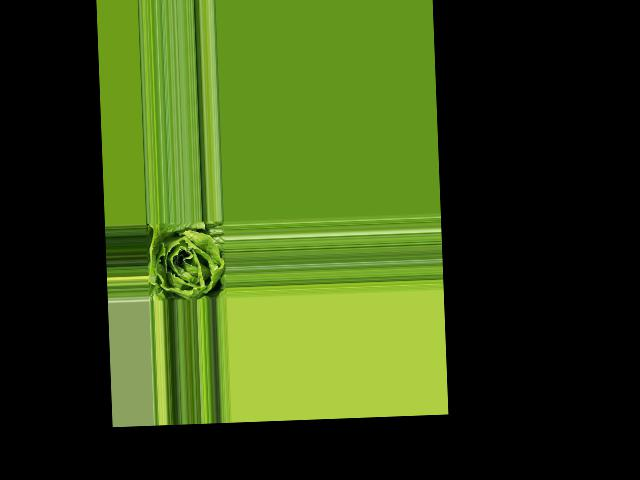lettuce: (147, 220, 225, 300)
